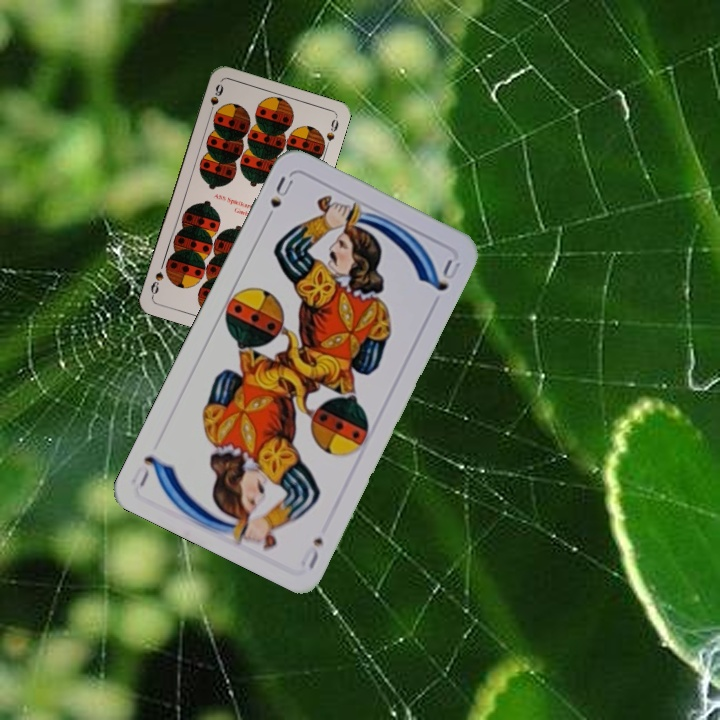S9: (205, 80, 226, 119)
SU: (261, 172, 296, 227), (296, 533, 326, 572)
